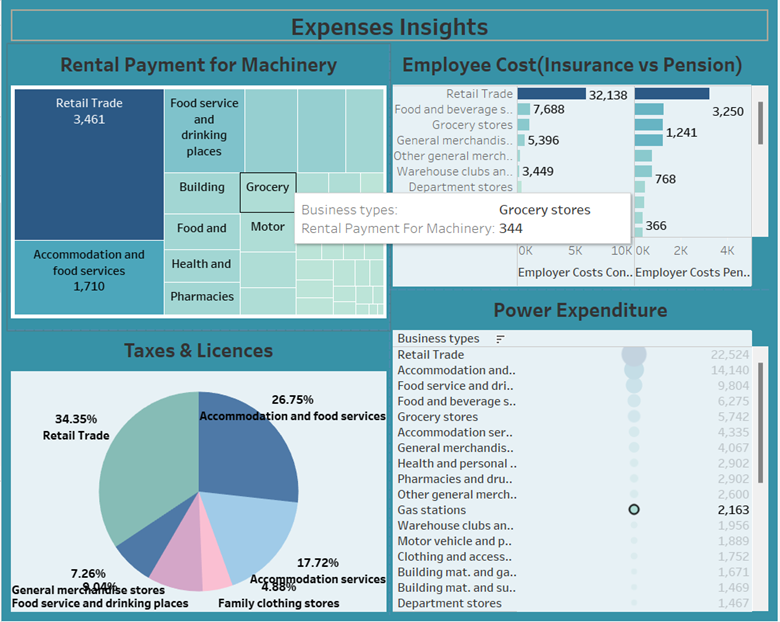

The dashboard page shown, as its layout file describes it:
{"tool":"tableau","page":{"name":"Dashboard 3","canvas":[1000,800],"ordinal":3},"visuals":[{"type":"title","box":[8,8,984,49]},{"type":"worksheet","title":"Rental Payment for Machinery","mark":"Automatic","box":[8,57,492,367.5]},{"type":"worksheet","title":"Employee Cost(insurance vs Pension)","mark":"Automatic","rows":["Business_types"],"cols":["employer_costs_contribution_plans","employer_costs_pension_plans"],"box":[500,57,492,316]},{"type":"worksheet","title":"Power Expenditure","mark":"Shape","rows":["Business_types"],"box":[500,373,492,419]},{"type":"worksheet","title":"Taxes & Licences","mark":"Pie","box":[8,424.5,492,367.5]}]}

Visuals, with their boxes in screenshot pixels (x1, y1, x2, y2), scaled from the page's 1000x800 canvas onto the 780x622 screenshot:
title: [left=6, top=6, right=774, bottom=44]
"Rental Payment for Machinery" worksheet: [left=6, top=44, right=390, bottom=330]
"Employee Cost(insurance vs Pension)" worksheet: [left=390, top=44, right=774, bottom=290]
"Power Expenditure" worksheet (Shape marks): [left=390, top=290, right=774, bottom=616]
"Taxes & Licences" worksheet (Pie marks): [left=6, top=330, right=390, bottom=616]
